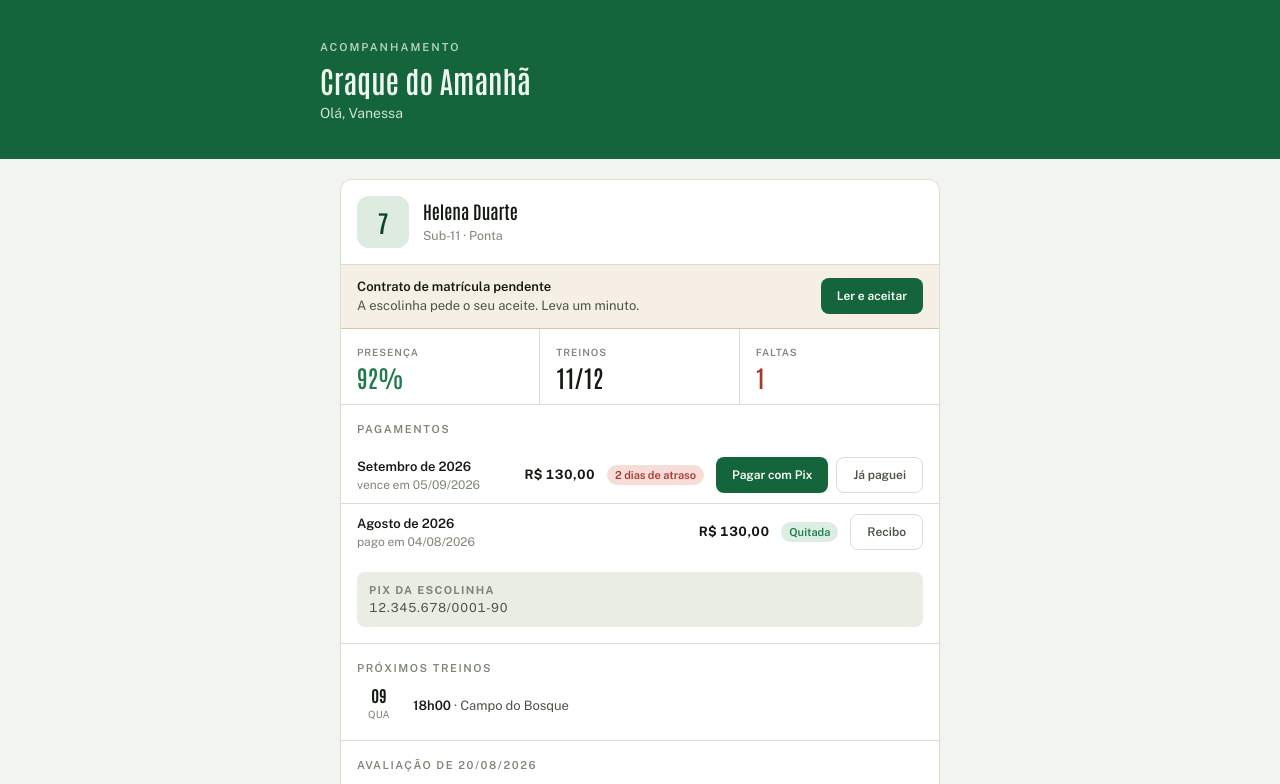
Test case: portal do responsável › contrato pendente aparece para o responsável aceitar
expect the text "Contrato de matrícula pendente" is shown: met, box 357,278 -> 551,294
Click the button "Ler e aceitar": {"x": 872, "y": 296} 821,278 -> 923,314
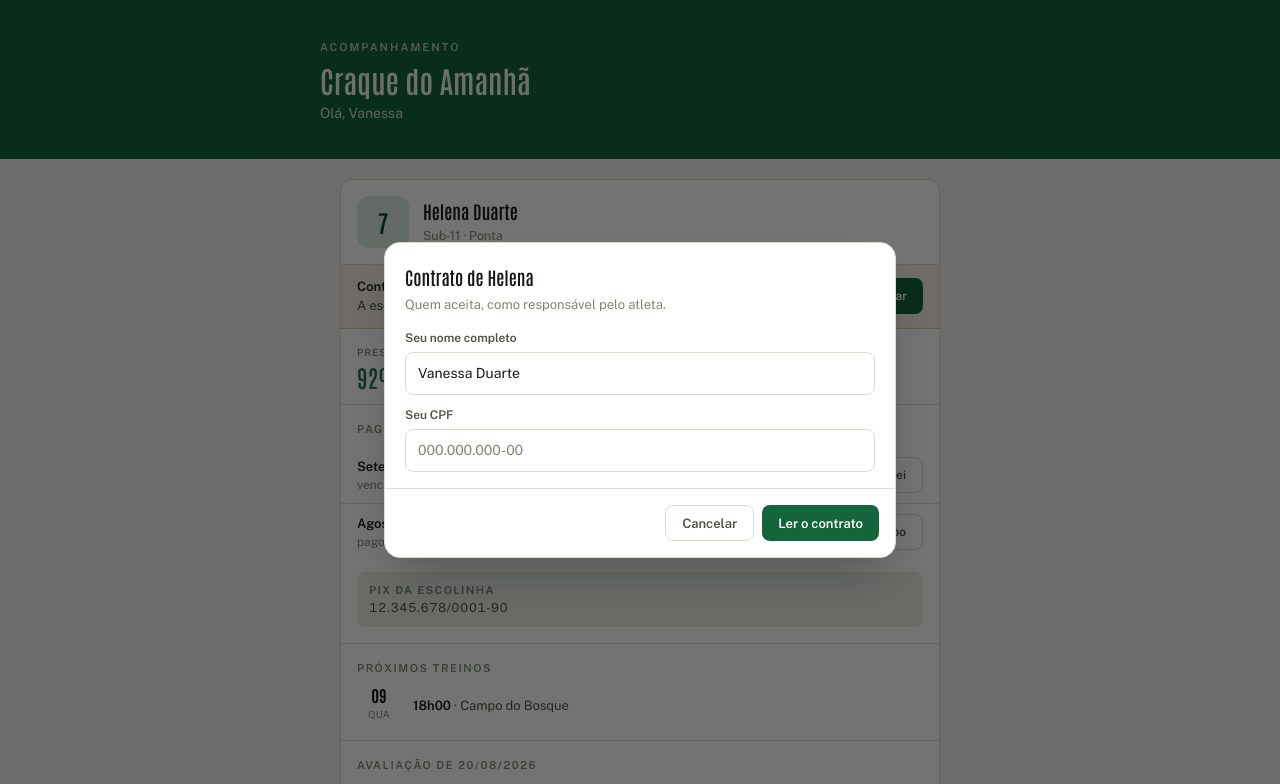
expect the field labelled "Seu CPF" is shown: met, box 405,429 -> 875,472
